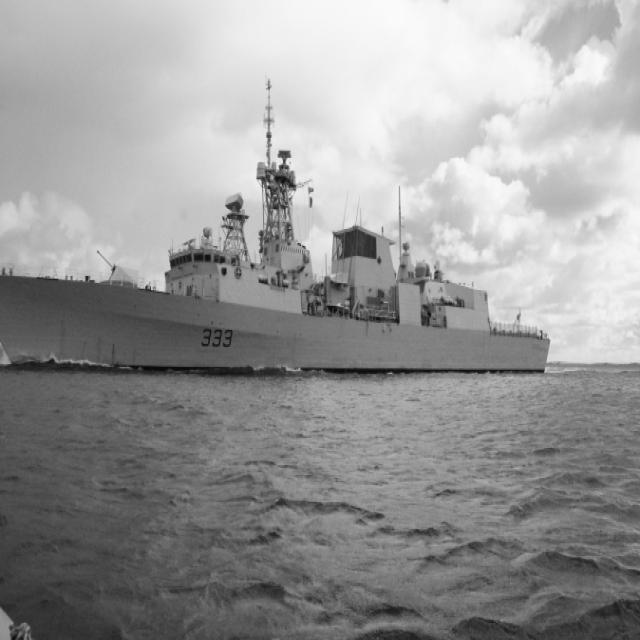Fragata: (1, 71, 556, 379)
